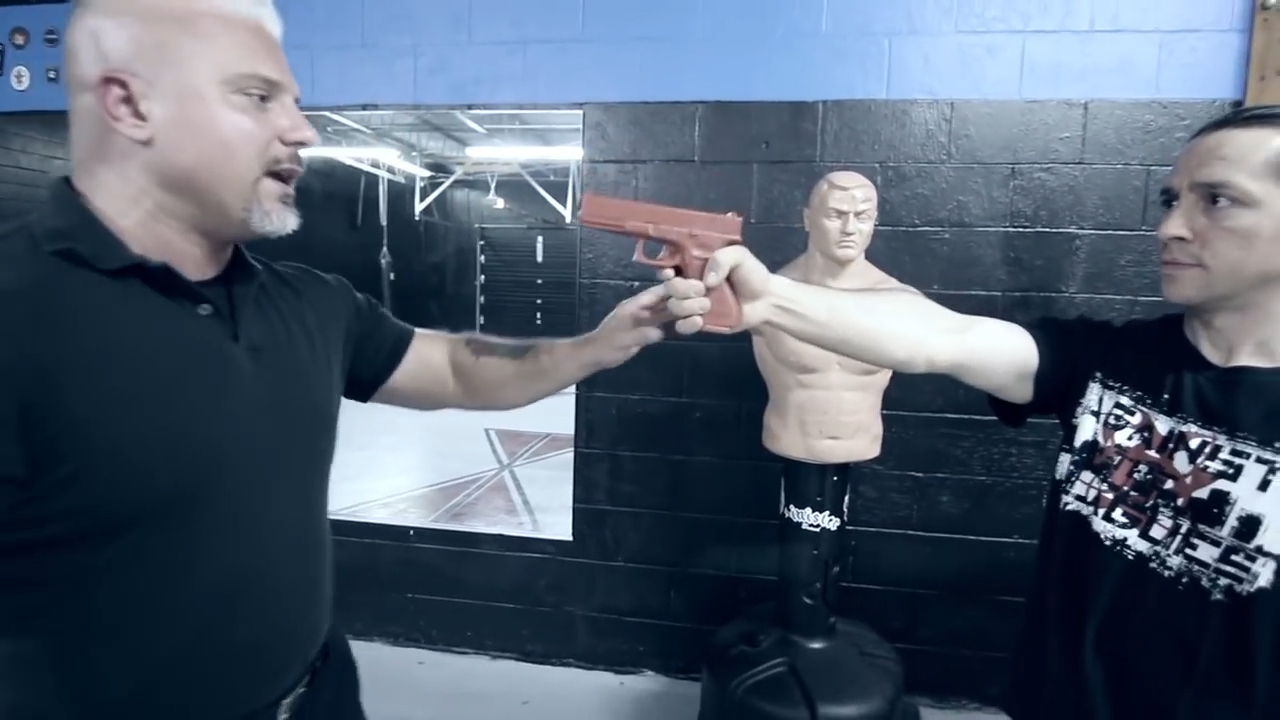pistol: (575, 191, 748, 337)
